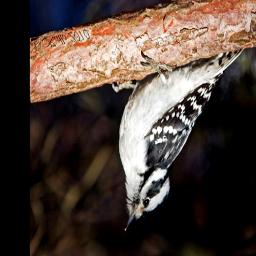Woodpecker: (108, 48, 244, 235)
